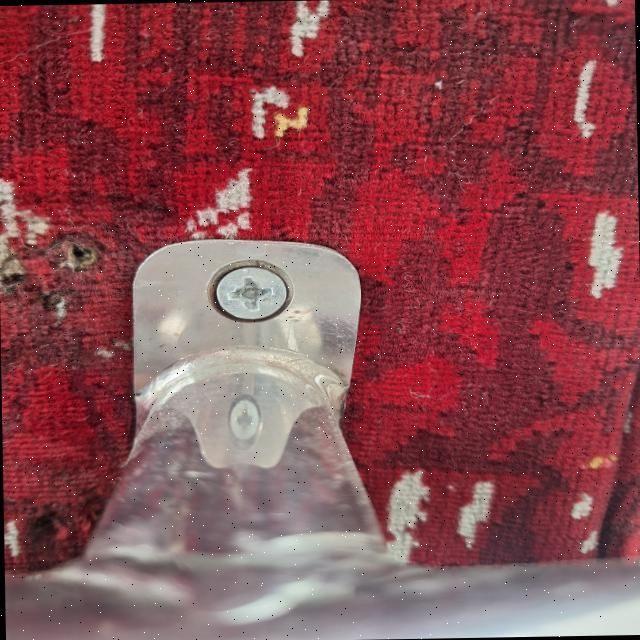Phillips: (210, 267, 293, 321)
